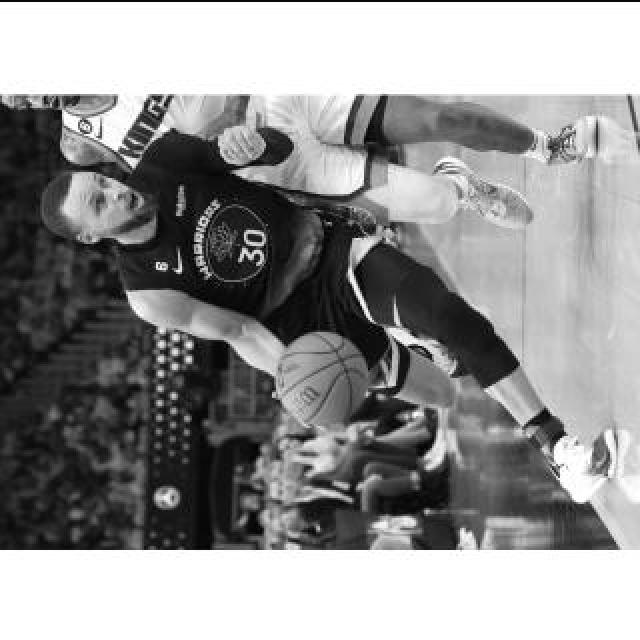shoe: (430, 156, 534, 226), (547, 428, 619, 504), (534, 113, 598, 165)
